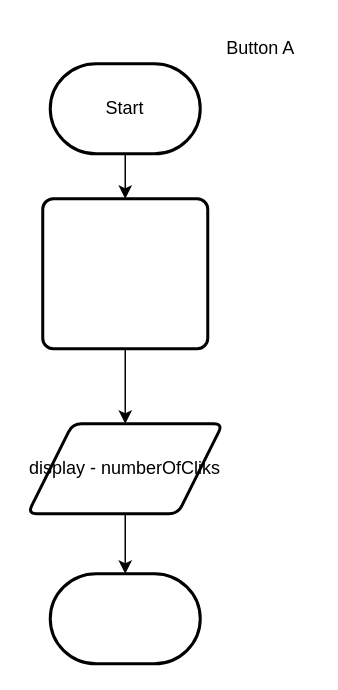
The diagram is 338 pixels wide and 690 high, and some of its shapes have lost their labels. Here are the shapes that lost their labels. From the top down, the centre of each, then its label:
At (x=124, y=273): "numberOfCliks = numberOfCliks + 1".
At (x=124, y=618): "Stop".
